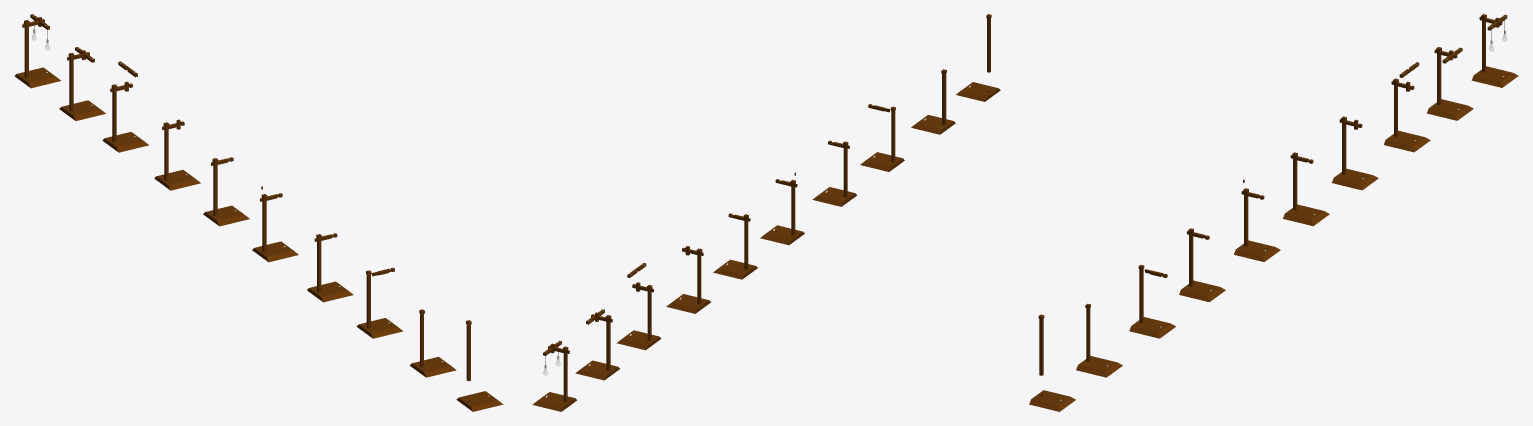
Rendered from 3-1_TableLamp_Level.fbx.
The picture shows the model from 3 angles, left to right: view 1: azimuth 30°, elevation 25°; view 2: azimuth 150°, elevation 25°; view 3: azimuth 330°, elevation 25°; orthographic projection. The views are drawn at different scales.
Parts seen in each view (by area): view 1: Geo_2_1_TableLamp_M1_10, Geo_2_1_TableLamp_M1_3, Geo_2_1_TableLamp_M1_5, Geo_2_1_TableLamp_M1_4, Geo_2_1_TableLamp_M1_8, Geo_2_1_TableLamp_M1_2, Geo_2_1_TableLamp_M1_6, Geo_2_1_TableLamp_M1_9, Geo_2_1_TableLamp_M1_7, Geo_2_1_TableLamp_M1_1; view 2: Geo_2_1_TableLamp_M1_10, Geo_2_1_TableLamp_M1_3, Geo_2_1_TableLamp_M1_5, Geo_2_1_TableLamp_M1_6, Geo_2_1_TableLamp_M1_1, Geo_2_1_TableLamp_M1_4, Geo_2_1_TableLamp_M1_8, Geo_2_1_TableLamp_M1_7, Geo_2_1_TableLamp_M1_2, Geo_2_1_TableLamp_M1_9; view 3: Geo_2_1_TableLamp_M1_10, Geo_2_1_TableLamp_M1_7, Geo_2_1_TableLamp_M1_9, Geo_2_1_TableLamp_M1_6, Geo_2_1_TableLamp_M1_4, Geo_2_1_TableLamp_M1_5, Geo_2_1_TableLamp_M1_1, Geo_2_1_TableLamp_M1_3, Geo_2_1_TableLamp_M1_8, Geo_2_1_TableLamp_M1_2.
Part boxes in pixels (<box>): Geo_2_1_TableLamp_M1_10: <box>456,391,503,411</box>; Geo_2_1_TableLamp_M1_3: <box>102,132,148,152</box>; Geo_2_1_TableLamp_M1_5: <box>252,241,298,262</box>; Geo_2_1_TableLamp_M1_4: <box>154,170,200,190</box>; Geo_2_1_TableLamp_M1_8: <box>203,205,249,226</box>; Geo_2_1_TableLamp_M1_2: <box>59,100,105,120</box>; Geo_2_1_TableLamp_M1_6: <box>307,281,353,302</box>; Geo_2_1_TableLamp_M1_9: <box>410,357,456,377</box>; Geo_2_1_TableLamp_M1_7: <box>356,318,402,338</box>; Geo_2_1_TableLamp_M1_1: <box>14,67,60,88</box>; Geo_2_1_TableLamp_M1_10: <box>956,82,1000,101</box>; Geo_2_1_TableLamp_M1_3: <box>616,330,661,350</box>; Geo_2_1_TableLamp_M1_5: <box>760,225,804,245</box>; Geo_2_1_TableLamp_M1_6: <box>812,187,857,206</box>; Geo_2_1_TableLamp_M1_1: <box>532,392,577,411</box>; Geo_2_1_TableLamp_M1_4: <box>666,294,710,313</box>; Geo_2_1_TableLamp_M1_8: <box>713,259,757,279</box>; Geo_2_1_TableLamp_M1_7: <box>860,152,904,171</box>; Geo_2_1_TableLamp_M1_2: <box>575,360,619,380</box>; Geo_2_1_TableLamp_M1_9: <box>911,115,955,134</box>; Geo_2_1_TableLamp_M1_10: <box>1029,390,1075,411</box>; Geo_2_1_TableLamp_M1_7: <box>1129,317,1175,338</box>; Geo_2_1_TableLamp_M1_9: <box>1076,356,1122,377</box>; Geo_2_1_TableLamp_M1_6: <box>1179,280,1225,302</box>; Geo_2_1_TableLamp_M1_4: <box>1332,168,1378,190</box>; Geo_2_1_TableLamp_M1_5: <box>1234,240,1280,261</box>; Geo_2_1_TableLamp_M1_1: <box>1471,66,1518,87</box>; Geo_2_1_TableLamp_M1_3: <box>1384,130,1430,152</box>; Geo_2_1_TableLamp_M1_8: <box>1283,204,1329,226</box>; Geo_2_1_TableLamp_M1_2: <box>1427,99,1473,120</box>.
Bounding box in the file's own units: 340 × 889 × 8838.
